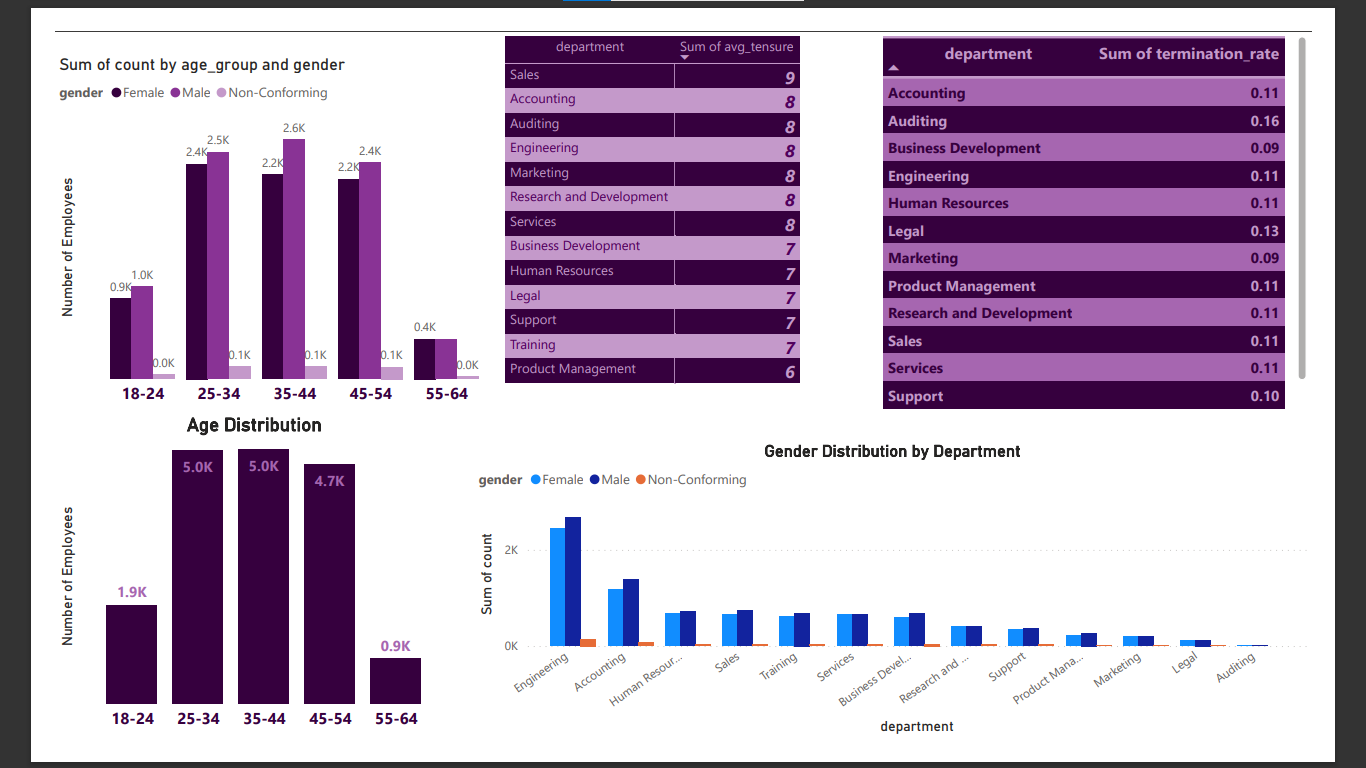

Layout of this report page (visuals, bound fields, positions):
{"tool":"powerbi","page":{"name":"Page 2","canvas":[1280,720],"ordinal":1},"visuals":[{"type":"columnChart","title":"Age Distribution ","fields":{"Category":["Age_distriution.age_group"],"Y":["Sum(Age_distriution.count)"]},"box":[0,389.5,406.7,330.5],"z":0},{"type":"clusteredColumnChart","fields":{"Category":["age_group_gender.age_group"],"Y":["Sum(age_group_gender.count)"],"Series":["age_group_gender.gender"]},"box":[0,23,468.5,366.5],"z":1000},{"type":"tableEx","fields":{"Values":["department_turnover.department","Sum(department_turnover.termination_rate)"]},"box":[837.8,0,442.6,389.5],"z":2000},{"type":"clusteredColumnChart","title":"Gender Distribution by Department","fields":{"Category":["department_gender.department"],"Series":["department_gender.gender"],"Y":["Sum(department_gender.count)"]},"box":[426.8,416.8,853.7,303.2],"z":3000},{"type":"pivotTable","fields":{"Rows":["avg_tensure.department"],"Values":["Sum(avg_tensure.avg_tensure)"]},"box":[454.1,0,369.3,389.5],"z":4000}]}

Visuals, with their boxes in screenshot pixels (x1, y1, x2, y2), scaled from the page's 1280x720 canvas onto the 1366x768 screenshot:
"Age Distribution " columnChart: [0,415,434,767]
clusteredColumnChart - age_group_gender.age_group x Sum(age_group_gender.count): [0,25,500,415]
tableEx - department_turnover.department x Sum(department_turnover.termination_rate): [894,0,1365,415]
"Gender Distribution by Department" clusteredColumnChart: [455,445,1365,767]
pivotTable - avg_tensure.department x Sum(avg_tensure.avg_tensure): [485,0,879,415]
